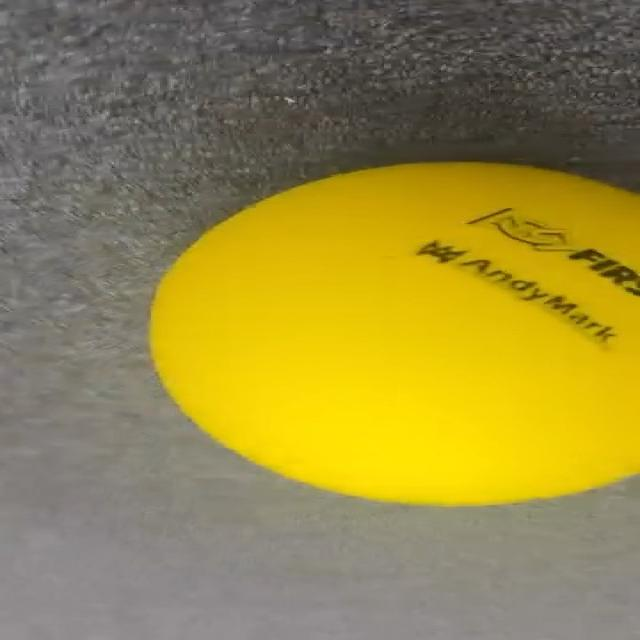Fuels: (153, 163, 638, 504)
